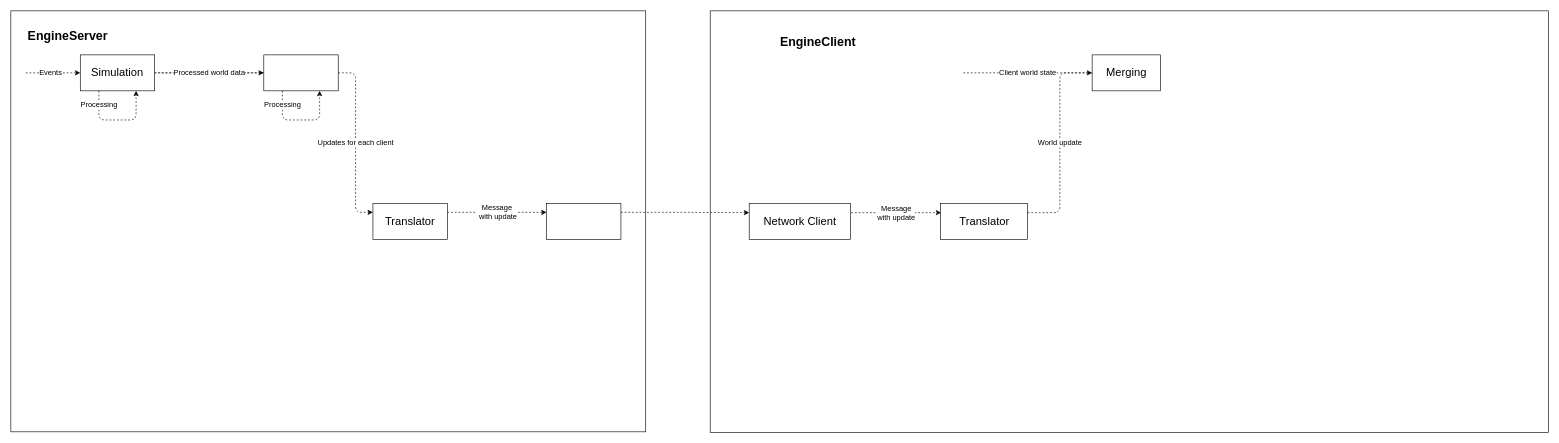
The diagram is 1559 pixels wide and 443 high, and some of its shapes have lost their labels. The shapes that lost their labels are listed below. From the top down, each one's centre as x and y in pixels, then its label:
At (x=300, y=72): "Framing".
At (x=583, y=221): "Network Server".
